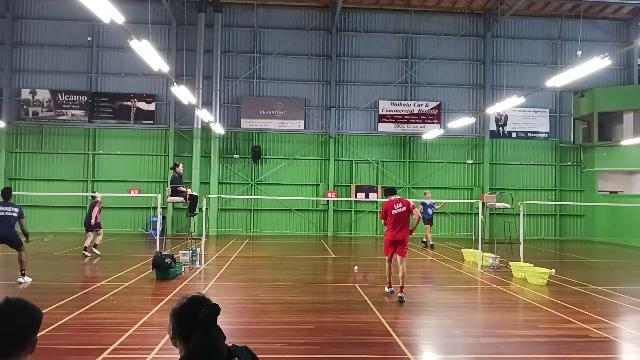Shuttlecock: (353, 264, 361, 272)
